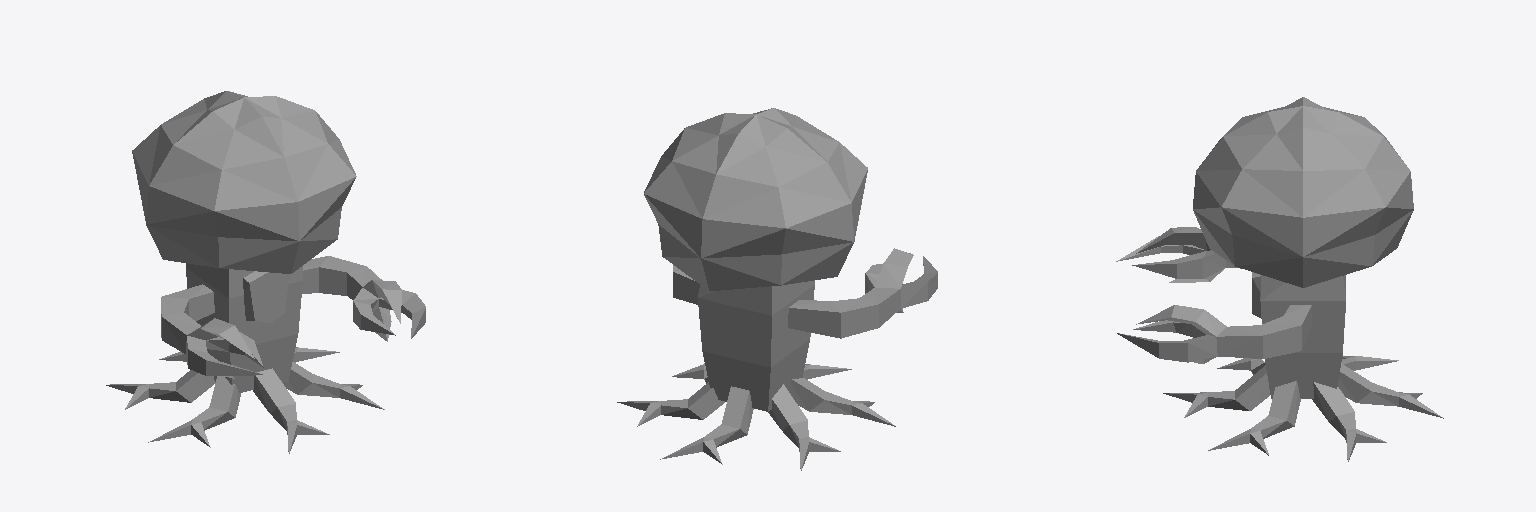
File: ent.obj
3 views of the same model, side by side, from view 1: azimuth 30°, elevation 25°; view 2: azimuth 150°, elevation 25°; view 3: azimuth 270°, elevation 25° (orthographic).
Parts seen in each view (by area): view 1: Body, RightArm, LeftArm, Head, FrontMiddleLeg, FrontRightLeg, BackRightLeg, FrontLeftLeg; view 2: Body, RightArm, BackMiddleLeg, FrontRightLeg, BackRightLeg, BackLeftLeg, LeftArm; view 3: Body, LeftArm, RightArm, FrontLeftLeg, FrontMiddleLeg, BackMiddleLeg, BackLeftLeg.
Part boxes in pixels (left/top/right/bottom): Body: left=132, top=91, right=356, bottom=392; RightArm: left=161, top=284, right=263, bottom=378; LeftArm: left=302, top=256, right=425, bottom=341; Head: left=243, top=271, right=289, bottom=323; FrontMiddleLeg: left=253, top=368, right=329, bottom=453; FrontRightLeg: left=148, top=376, right=240, bottom=447; BackRightLeg: left=106, top=370, right=215, bottom=409; FrontLeftLeg: left=283, top=362, right=384, bottom=409; Body: left=644, top=108, right=867, bottom=411; RightArm: left=788, top=248, right=937, bottom=338; BackMiddleLeg: left=660, top=386, right=753, bottom=464; FrontRightLeg: left=790, top=378, right=895, bottom=426; BackRightLeg: left=768, top=384, right=840, bottom=470; BackLeftLeg: left=617, top=382, right=724, bottom=426; LeftArm: left=673, top=265, right=699, bottom=304; Body: left=1193, top=97, right=1413, bottom=398; LeftArm: left=1117, top=305, right=1311, bottom=363; RightArm: left=1116, top=227, right=1240, bottom=282; FrontLeftLeg: left=1208, top=381, right=1300, bottom=455; FrontMiddleLeg: left=1163, top=365, right=1269, bottom=417; BackMiddleLeg: left=1338, top=363, right=1443, bottom=418; BackLeftLeg: left=1312, top=382, right=1386, bottom=461.
Size of the model in its own units: 2.56 by 3.08 by 3.07.